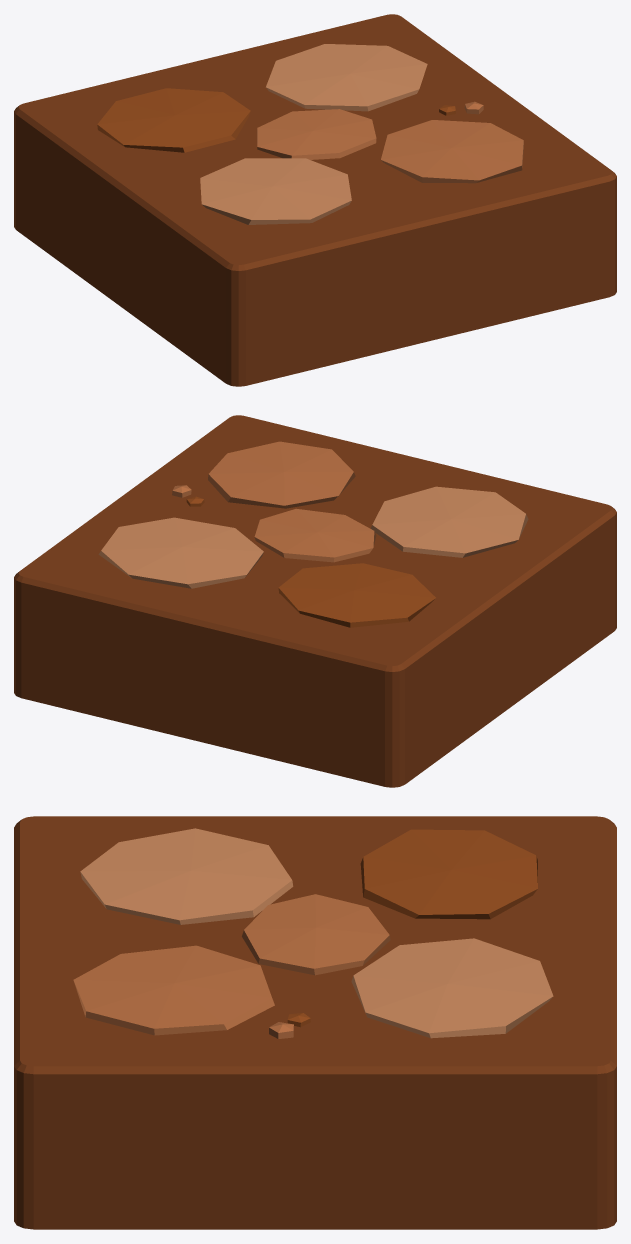
Rendered from tile_clay.glb.
The picture shows the model from 3 angles, top to bottom: view 1: azimuth 30°, elevation 25°; view 2: azimuth 150°, elevation 25°; view 3: azimuth 270°, elevation 25°; orthographic projection. The views are drawn at different scales.
Visible parts, largest first — view 1: clay_body, clay_cap, clay_plate_3, clay_plate_0, clay_plate_2, clay_plate_1, clay_plate_4; view 2: clay_body, clay_cap, clay_plate_3, clay_plate_0, clay_plate_1, clay_plate_2, clay_plate_4; view 3: clay_cap, clay_body, clay_plate_3, clay_plate_0, clay_plate_1, clay_plate_2, clay_plate_4.
Part boxes in pixels (<box>): clay_body: <box>14,121,616,386</box>; clay_cap: <box>14,14,616,280</box>; clay_plate_3: <box>266,44,427,111</box>; clay_plate_0: <box>200,158,351,224</box>; clay_plate_2: <box>97,88,250,152</box>; clay_plate_1: <box>381,120,523,183</box>; clay_plate_4: <box>257,109,376,159</box>; clay_body: <box>14,522,616,787</box>; clay_cap: <box>14,415,616,681</box>; clay_plate_3: <box>98,517,263,588</box>; clay_plate_0: <box>370,486,528,557</box>; clay_plate_1: <box>208,441,355,508</box>; clay_plate_2: <box>278,563,435,627</box>; clay_plate_4: <box>254,508,376,562</box>; clay_cap: <box>14,816,616,1086</box>; clay_body: <box>14,1078,616,1229</box>; clay_plate_3: <box>351,938,553,1038</box>; clay_plate_0: <box>80,828,293,924</box>; clay_plate_1: <box>73,945,274,1035</box>; clay_plate_2: <box>360,829,537,919</box>; clay_plate_4: <box>242,894,390,975</box>.
Size of the model in its own units: 1.7 by 0.5402 by 1.7.
